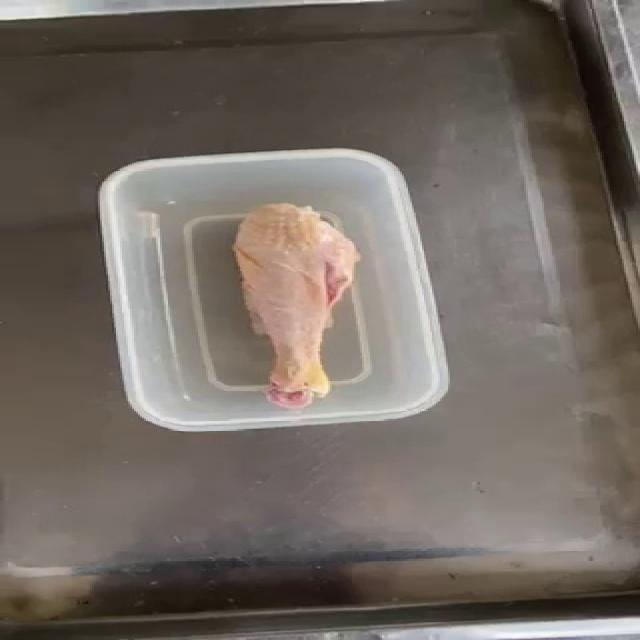chicken: (230, 201, 360, 409)
